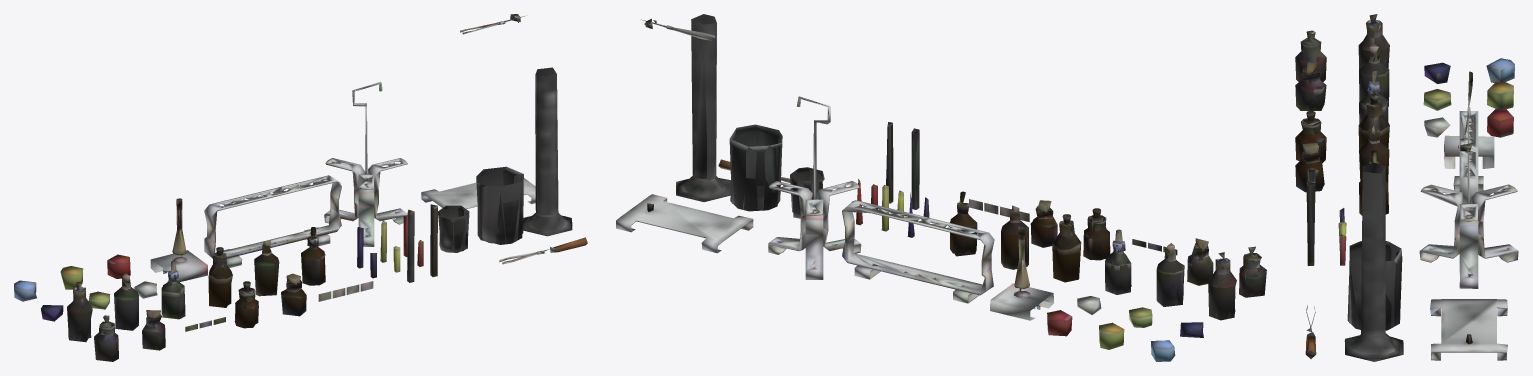
File: design-chemistry-set.glb
The picture shows the model from 3 angles, left to right: view 1: azimuth 30°, elevation 25°; view 2: azimuth 150°, elevation 25°; view 3: azimuth 270°, elevation 25°; orthographic projection. The views are drawn at different scales.
Parts seen in each view (by area): view 1: chemistry_set_beaker_large, chemistry_set_test_tube_content_b; view 2: chemistry_set_beaker_large, chemistry_set_test_tube_content_b; view 3: chemistry_set_beaker_large, chemistry_set_test_tube_content_b.
Part boxes in pixels (x1,y1,x2,y2): chemistry_set_beaker_large: [41, 67, 572, 361]; chemistry_set_test_tube_content_b: [14, 14, 587, 318]; chemistry_set_beaker_large: [676, 14, 1266, 349]; chemistry_set_test_tube_content_b: [616, 18, 1208, 361]; chemistry_set_beaker_large: [1295, 14, 1513, 361]; chemistry_set_test_tube_content_b: [1303, 44, 1518, 360].
Bounding box in the file's own units: 1.08 × 0.372 × 0.3532.
Materials: 2 (2 with a texture image).
